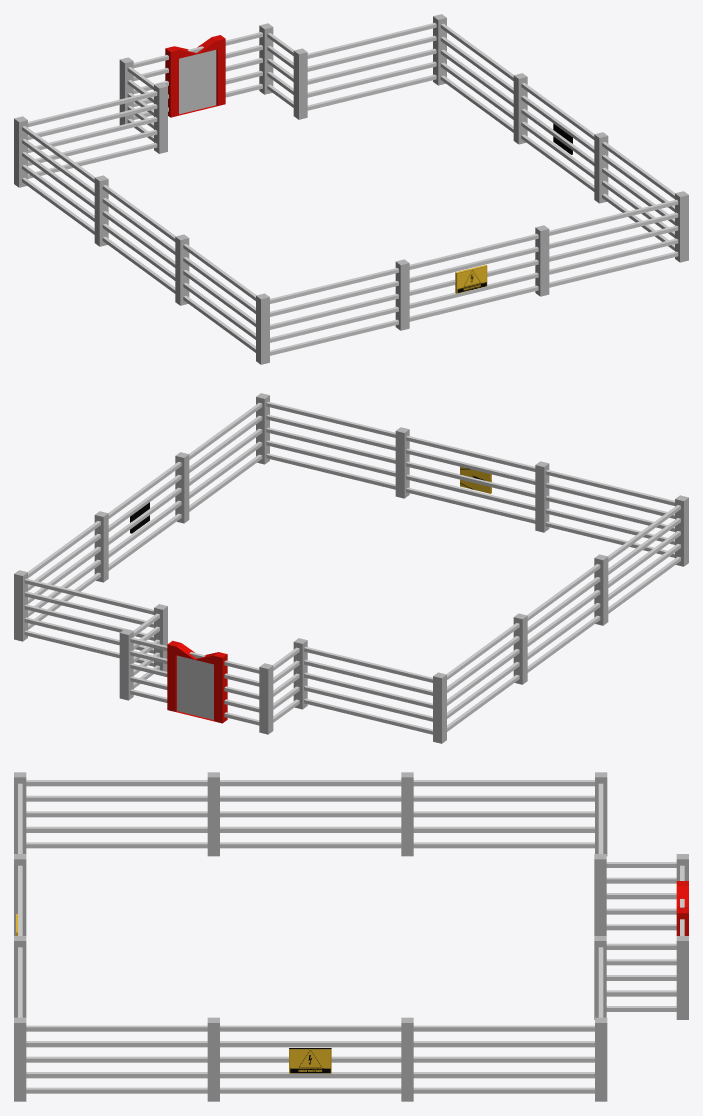
Rendered from cit (2).fbx.
The picture shows the model from 3 angles, top to bottom: view 1: azimuth 30°, elevation 25°; view 2: azimuth 150°, elevation 25°; view 3: azimuth 270°, elevation 25°; orthographic projection. The views are drawn at different scales.
Visible parts, largest first — view 1: Cube.017; view 2: Cube.017; view 3: Cube.017.
Part boxes in pixels (box(x1,y1,x2,y2)): Cube.017: box(14, 14, 688, 364); Cube.017: box(14, 393, 688, 743); Cube.017: box(14, 772, 688, 1101).
Size of the model in its own units: 14.39 by 2.11 by 16.37.
